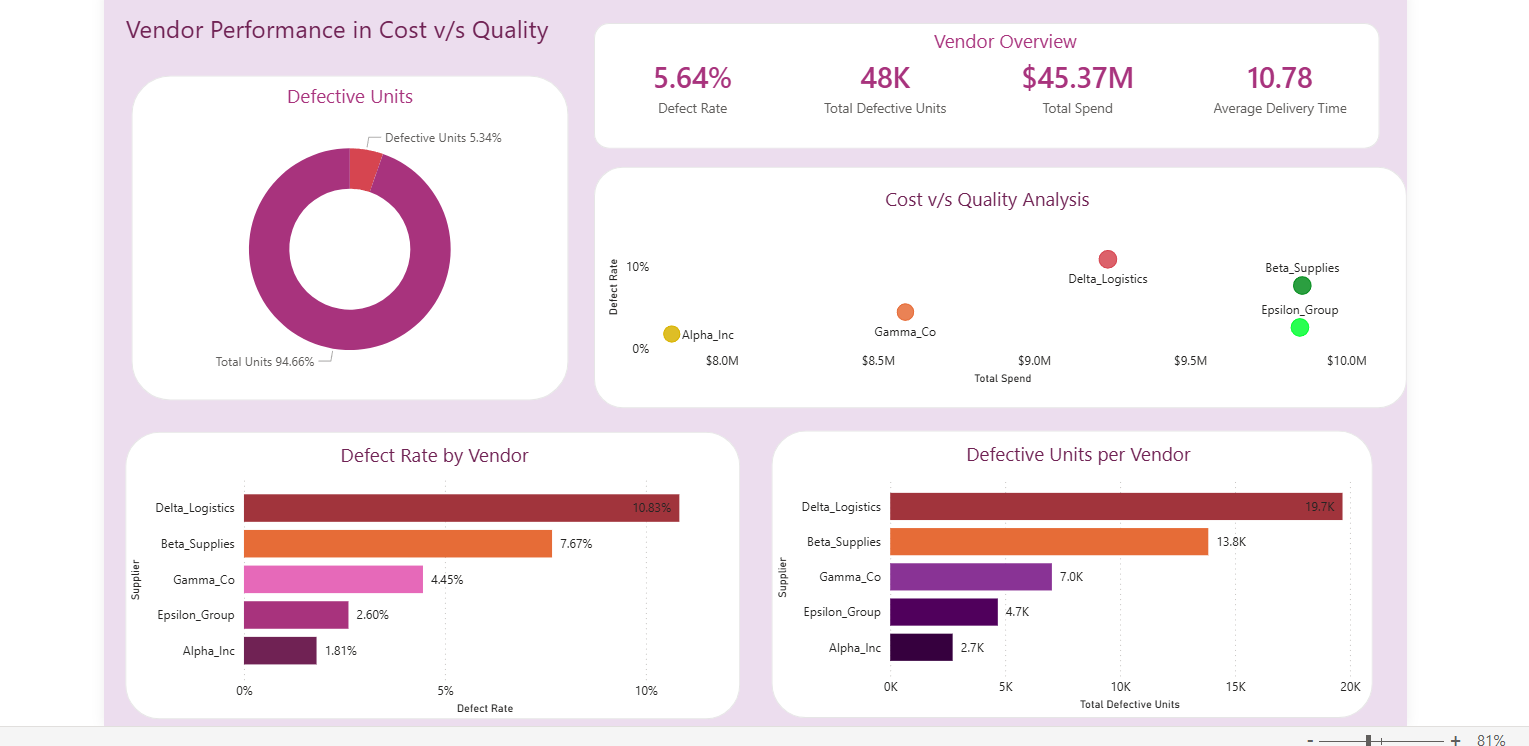

The page's visual inventory and layout, read from the dashboard file:
{"tool":"powerbi","page":{"name":"Cost v/s Quality","canvas":[1280,720],"ordinal":1},"visuals":[{"type":"shape","box":[655.9,429.2,590.6,282.5],"z":0},{"type":"textbox","box":[0,13.5,464.7,45.2],"z":1000},{"type":"shape","box":[481.8,29.3,771.6,123.5],"z":2000},{"type":"cardVisual","fields":{"Data":["Key Measures.Defect Rate Weighted"]},"box":[464.7,36.7,228.7,110.1],"z":3000},{"type":"cardVisual","fields":{"Data":["Key Measures.Total Defective Units"]},"box":[653,36.7,228.7,110.1],"z":4000},{"type":"shape","box":[481.8,171.2,798.5,237.2],"z":5000},{"type":"cardVisual","fields":{"Data":["Key Measures.Total Spend"]},"box":[842.5,36.7,228.7,110.1],"z":6000},{"type":"cardVisual","fields":{"Data":["Key Measures.Average Delivery Time"]},"box":[1040.6,36.7,228.7,110.1],"z":7000},{"type":"scatterChart","title":"Cost v/s Quality Analysis","fields":{"X":["Key Measures.Total Spend"],"Y":["Key Measures.Defect Rate Weighted"],"Size":["Key Measures.Total Quantity"],"Series":["Procurement_cleaned.Supplier"]},"box":[490.4,189.5,755.7,200.5],"z":8000},{"type":"shape","box":[21.3,431.2,604.1,282.5],"z":9000},{"type":"shape","box":[26.9,80.7,429.2,319.2],"z":9500},{"type":"barChart","title":"Defect Rate by Vendor","fields":{"Category":["Procurement_cleaned.Supplier"],"Y":["Key Measures.Defect Rate Weighted"]},"box":[21.3,441,607.7,272.7],"z":10000},{"type":"barChart","title":"Defective Units per Vendor","fields":{"Category":["Procurement_cleaned.Supplier"],"Y":["Key Measures.Total Defective Units"]},"box":[655.9,439,602.9,270.2],"z":11000},{"type":"textbox","box":[810.7,29.3,188.3,44],"z":12000},{"type":"donutChart","title":"Defective Units","fields":{"Y":["Key Measures.Total Defective Units","Key Measures.Total Quantity"]},"box":[35.5,88,412.1,302],"z":14000}]}

Visuals, with their boxes on the page's 1280x720 design canvas (x1, y1, x2, y2). These are canvas units, not pixel positions in the 1529x746 screenshot, which may show the page scaled, cropped or inside an application window:
shape: l=656, t=429, r=1246, b=712
textbox: l=0, t=14, r=465, b=59
shape: l=482, t=29, r=1253, b=153
cardVisual - Key Measures.Defect Rate Weighted: l=465, t=37, r=693, b=147
cardVisual - Key Measures.Total Defective Units: l=653, t=37, r=882, b=147
shape: l=482, t=171, r=1280, b=408
cardVisual - Key Measures.Total Spend: l=842, t=37, r=1071, b=147
cardVisual - Key Measures.Average Delivery Time: l=1041, t=37, r=1269, b=147
"Cost v/s Quality Analysis" scatterChart: l=490, t=190, r=1246, b=390
shape: l=21, t=431, r=625, b=714
shape: l=27, t=81, r=456, b=400
"Defect Rate by Vendor" barChart: l=21, t=441, r=629, b=714
"Defective Units per Vendor" barChart: l=656, t=439, r=1259, b=709
textbox: l=811, t=29, r=999, b=73
"Defective Units" donutChart: l=36, t=88, r=448, b=390
